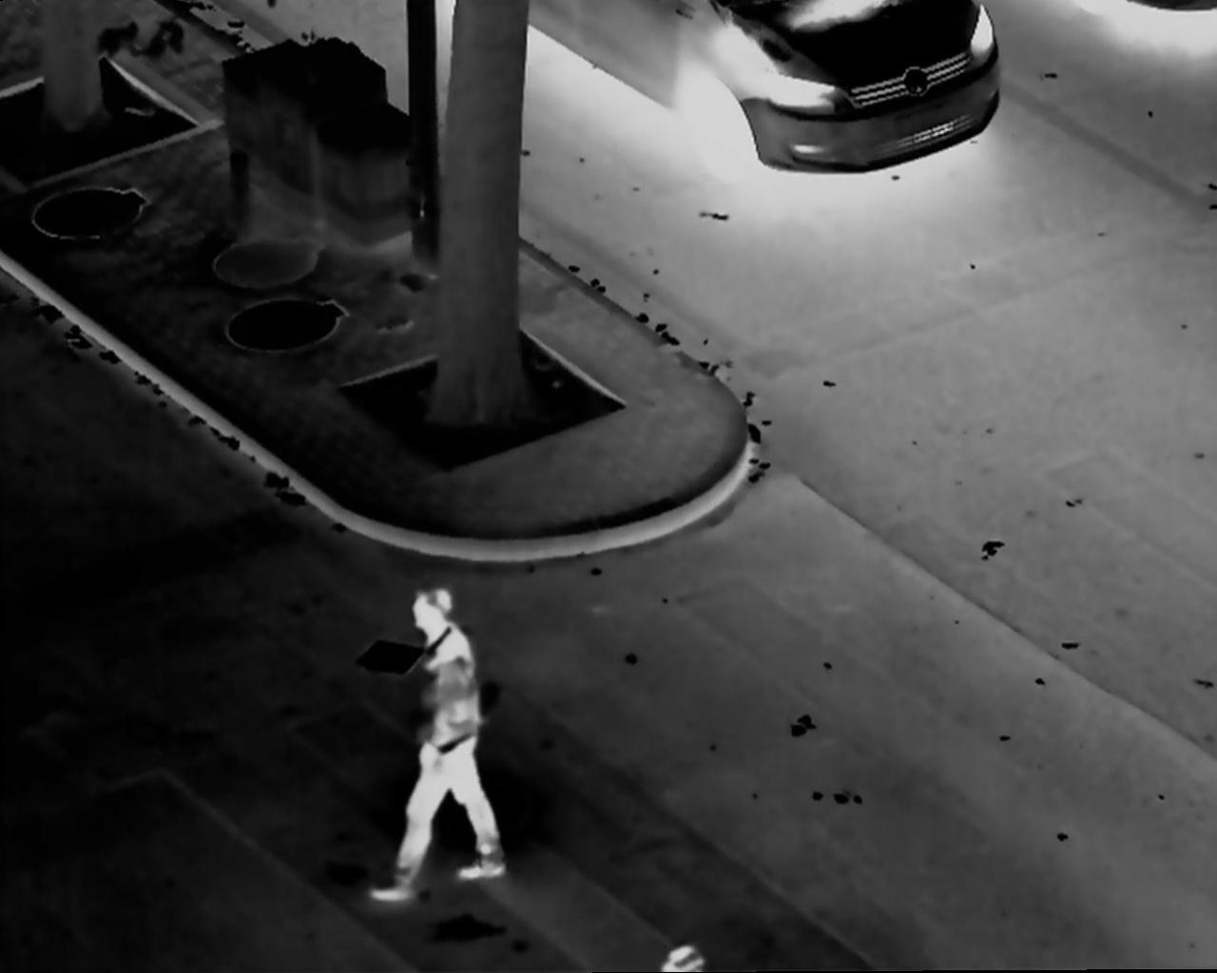person: (366, 585, 511, 905)
